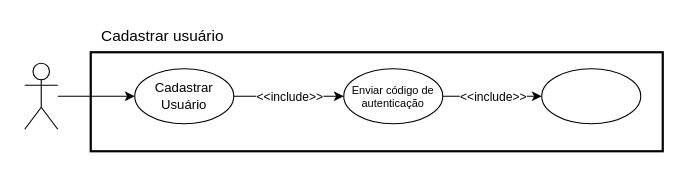
This 683x171 diagram has some shape labels left out. The centre of each missing label's shape, as x and y in pixels:
Usuário: point (41, 95)
Validar código de autenticação: point (591, 96)
